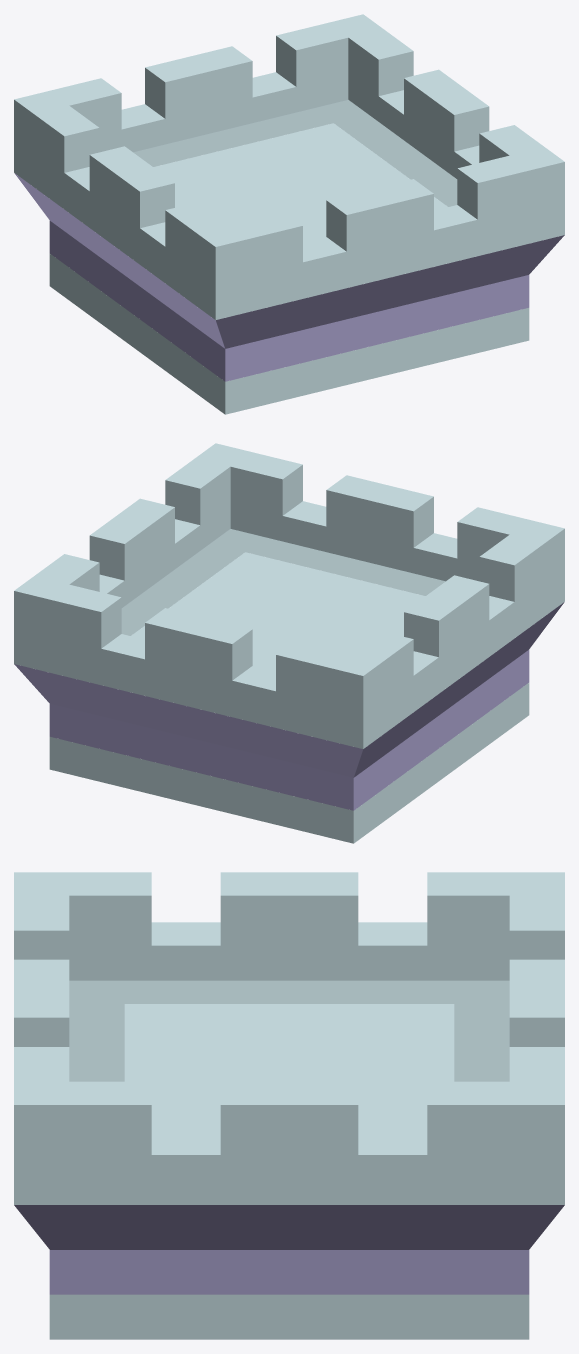
Rendered from towerSquare_topA.glb.
3 views of the same model, one above another, from view 1: azimuth 30°, elevation 25°; view 2: azimuth 150°, elevation 25°; view 3: azimuth 270°, elevation 25° (orthographic). The views are drawn at different scales.
Parts seen in each view (by area): view 1: towerSquare_topA; view 2: towerSquare_topA; view 3: towerSquare_topA.
Boxes of the visible parts, bbox=[...] form: towerSquare_topA: bbox=[14, 14, 564, 414]; towerSquare_topA: bbox=[14, 443, 564, 843]; towerSquare_topA: bbox=[14, 872, 564, 1339].
Size of the model in its own units: 1 by 0.5 by 1.
